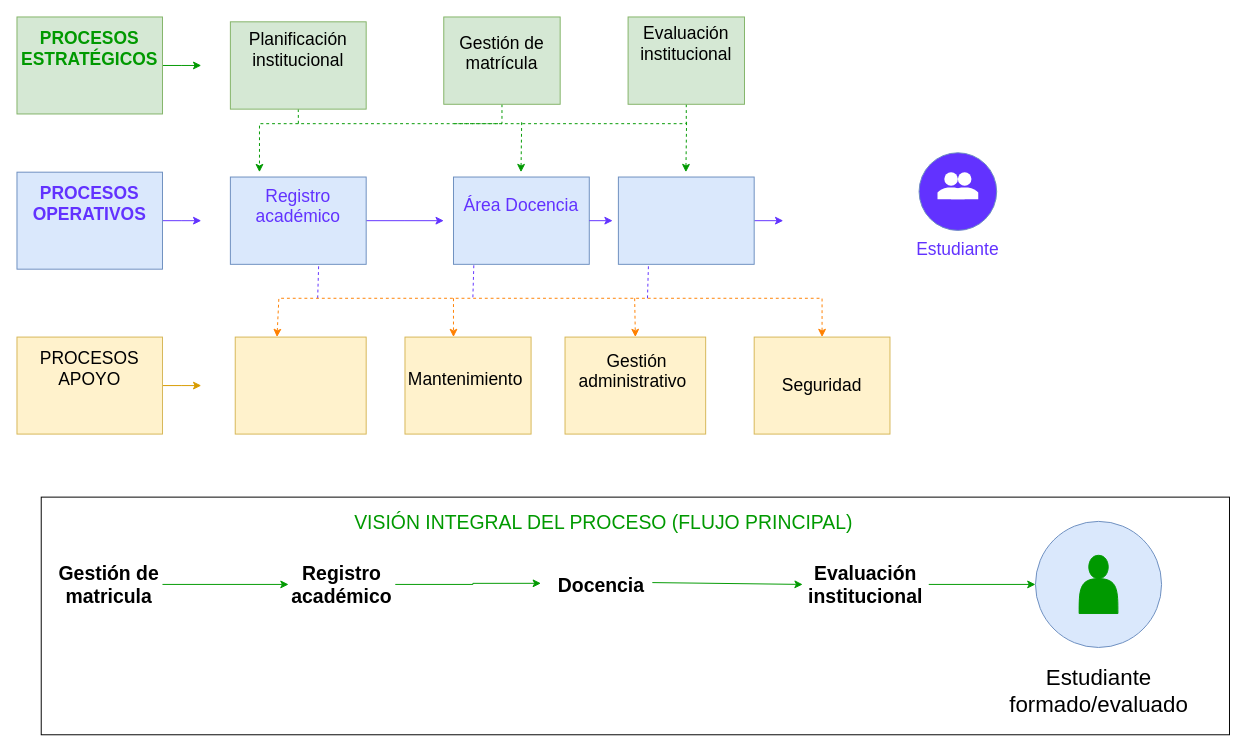
The diagram is 1246 pixels wide and 752 high, and some of its shapes have lost their labels. The shapes that lost their labels are listed below. From the top down, each one's centre as x and y in pixels, then its label:
the point at 685,220: Biblioteca
the point at 300,385: Limpieza
